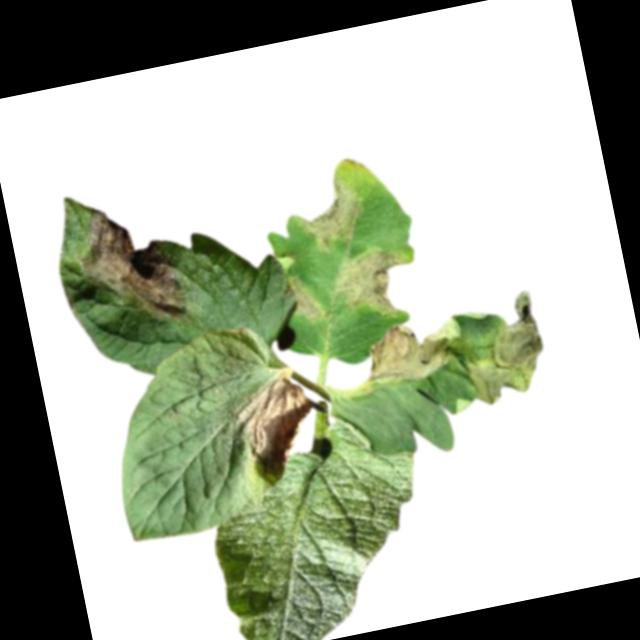Late_blight: (71, 191, 193, 340), (454, 289, 554, 409), (222, 367, 323, 483), (352, 311, 469, 395), (322, 238, 425, 328), (282, 171, 368, 258), (276, 272, 325, 329)
